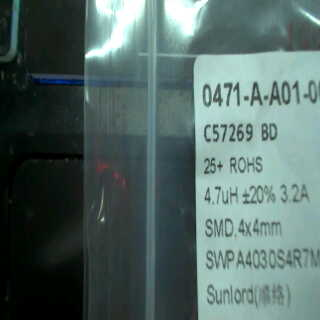4.7uH: (199, 181, 242, 210)
